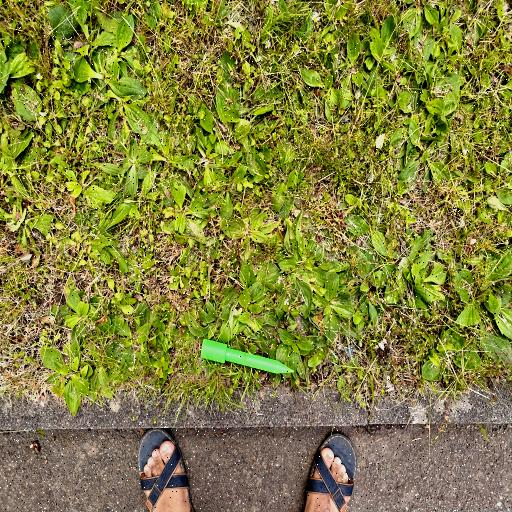Probe-Detection: (201, 339, 292, 373)
